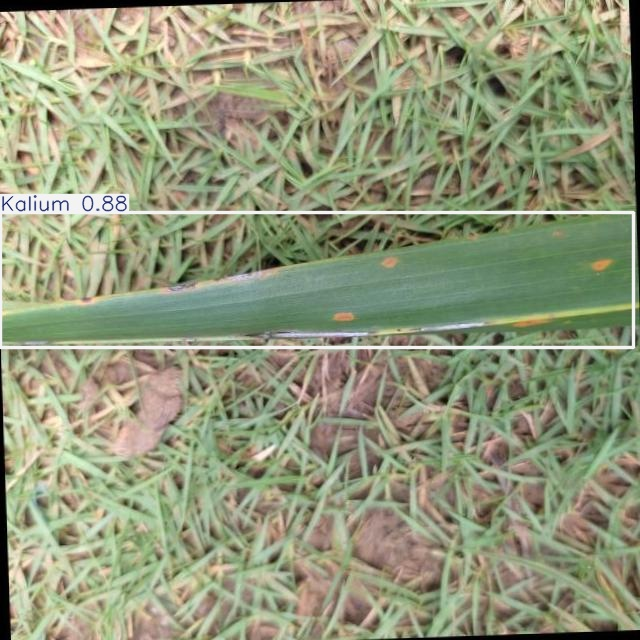Kalium: (0, 213, 633, 347)
